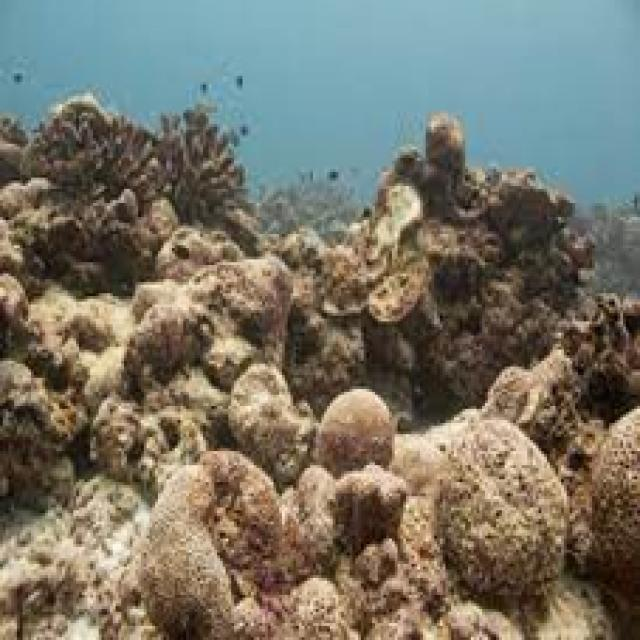Dead Coral: (80, 376, 608, 640), (339, 118, 579, 389), (0, 84, 278, 284)
